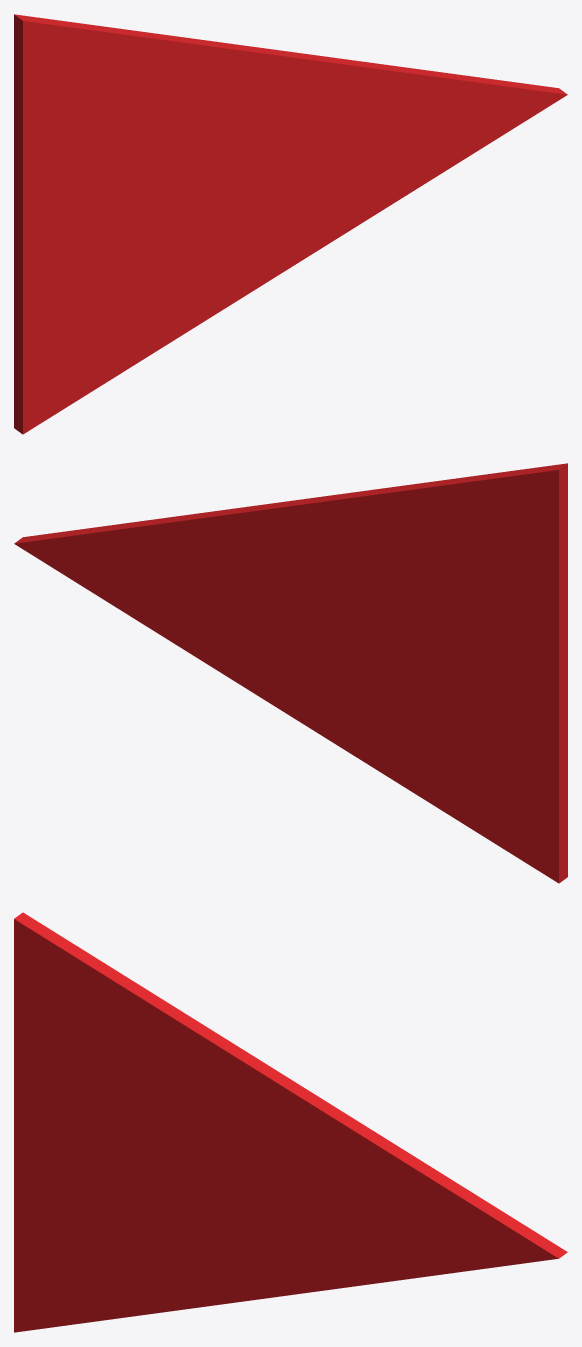
File: kirmizib.fbx
3 renders of one model, top to bottom at view 1: azimuth 30°, elevation 25°; view 2: azimuth 150°, elevation 25°; view 3: azimuth 330°, elevation 25°, orthographic.
Parts seen in each view (by area): view 1: pCylinder3; view 2: pCylinder3; view 3: pCylinder3.
Boxes of the visible parts, x1,y1,x2,y2 form: pCylinder3: (14,14,567,434); pCylinder3: (14,463,567,883); pCylinder3: (14,912,567,1332).
Size of the model in its own units: 28.09 by 20.38 by 0.8.
Materials: 1 (1 with a texture image).
